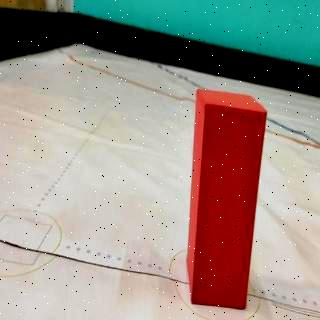redbox: (188, 88, 268, 308)
